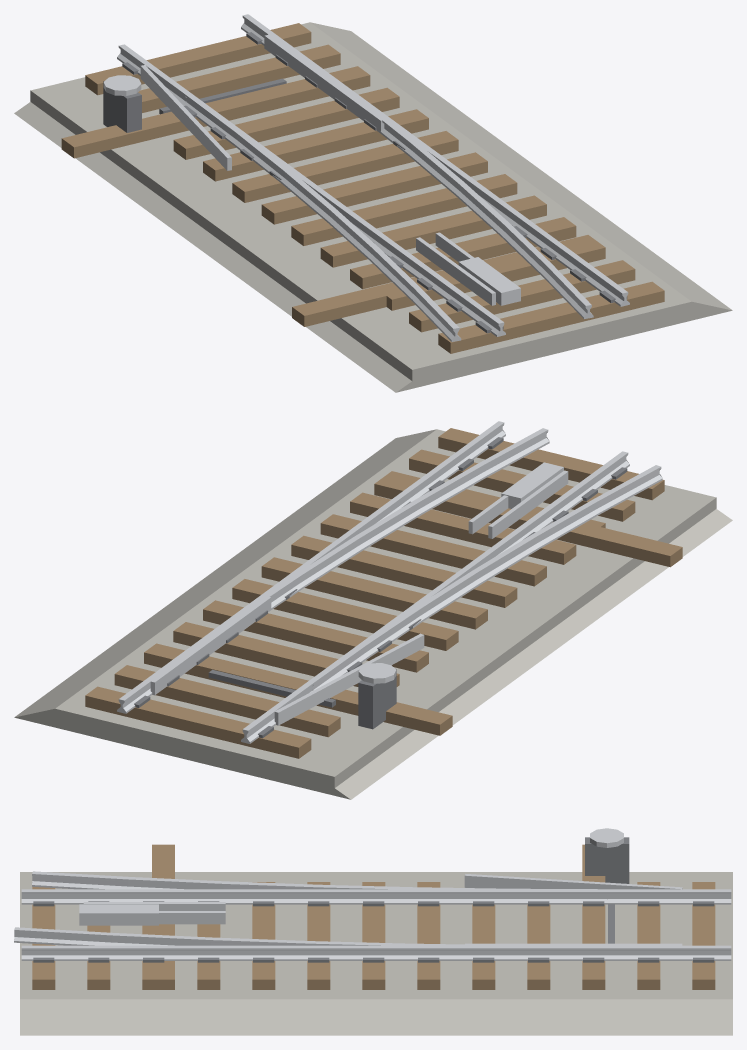
The model's file is steam-era-railway-and-rolling-stock-turnout-left-fe11f19c.glb.
3 renders of one model, top to bottom at view 1: azimuth 30°, elevation 25°; view 2: azimuth 150°, elevation 25°; view 3: azimuth 270°, elevation 25°, orthographic. The views are drawn at different scales.
Parts seen in each view (by area): view 1: turnout-left; view 2: turnout-left; view 3: turnout-left.
Boxes of the visible parts, <box> form: turnout-left: <box>14,14,732,392</box>; turnout-left: <box>14,421,732,799</box>; turnout-left: <box>14,828,732,1035</box>.
Bounding box in the file's own units: 4.35 × 0.8099 × 8.11.
